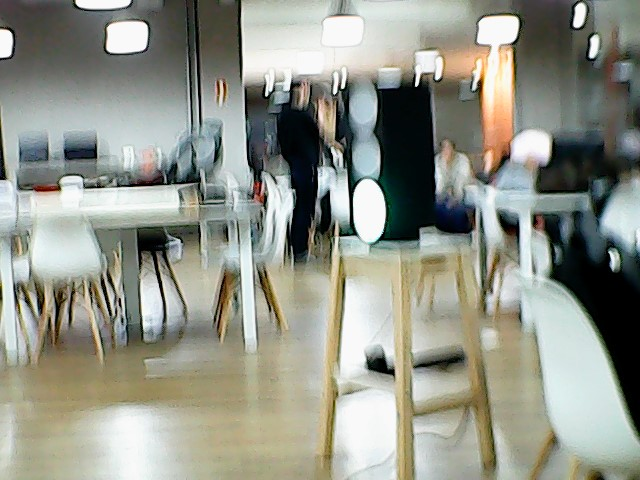verde: (331, 80, 459, 242)
